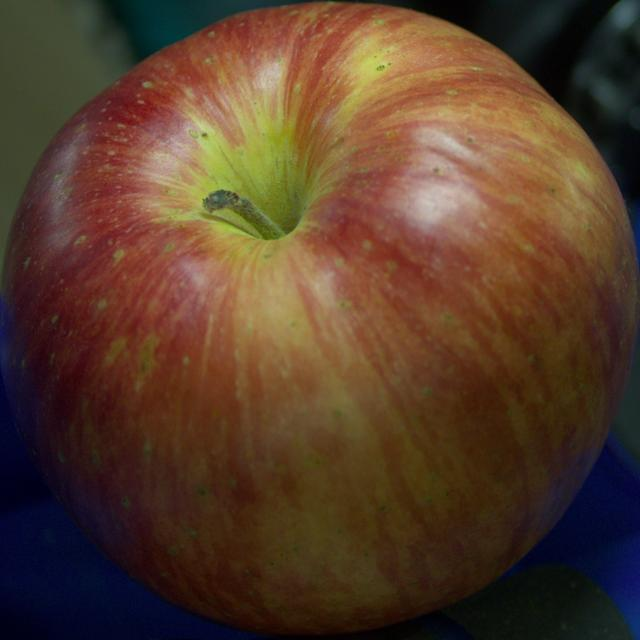apple: (0, 2, 639, 634)
